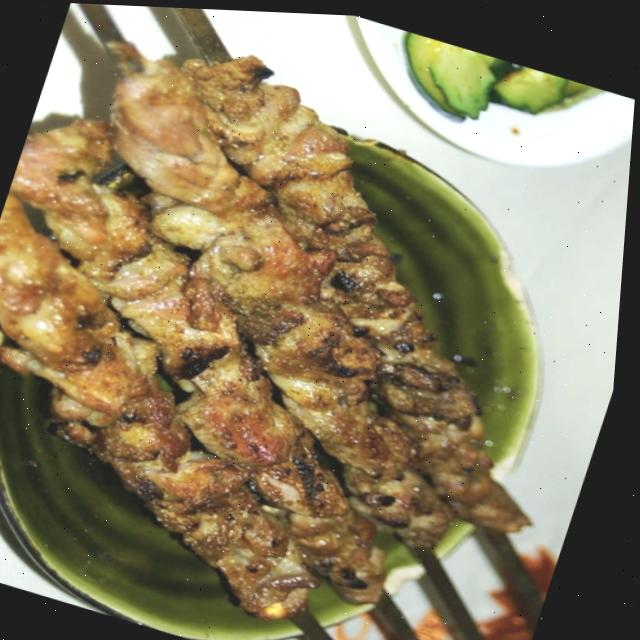烧串烤肉: (0, 5, 640, 640)
